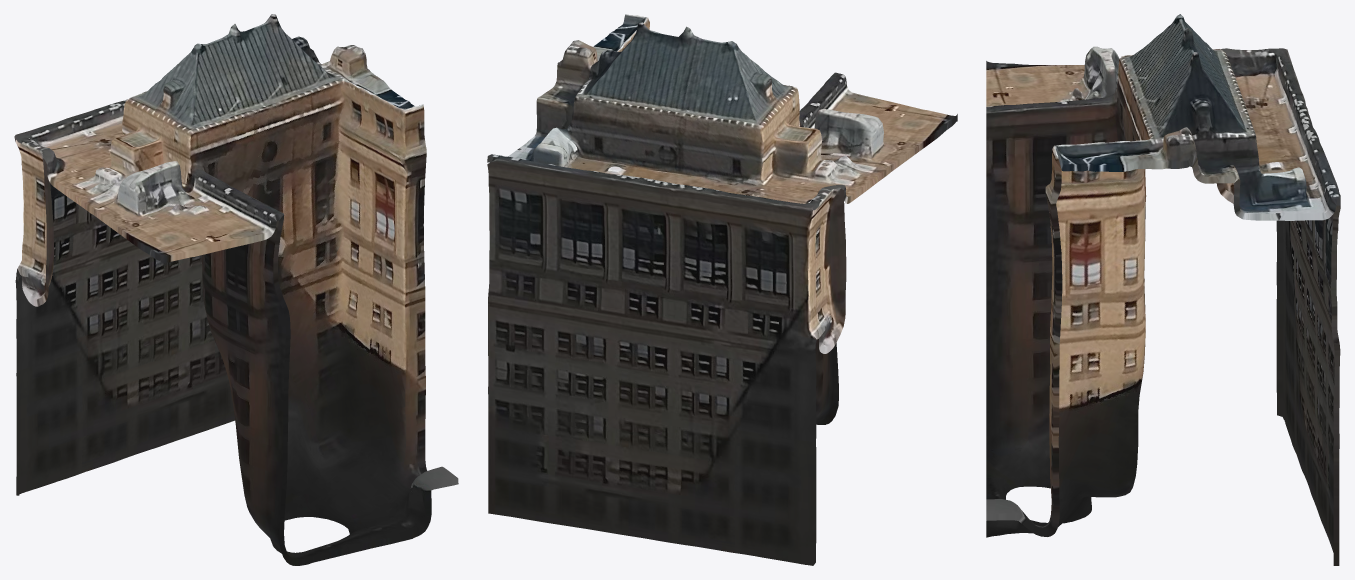
The model's file is z20-167770-405235-h1-yup-uvflip-v3-world.glb.
3 views of the same model, side by side, from view 1: azimuth 30°, elevation 25°; view 2: azimuth 150°, elevation 25°; view 3: azimuth 270°, elevation 25° (orthographic). The views are drawn at different scales.
Size of the model in its own units: 30.2 by 44.92 by 30.32.
1 material, 1 textured.
